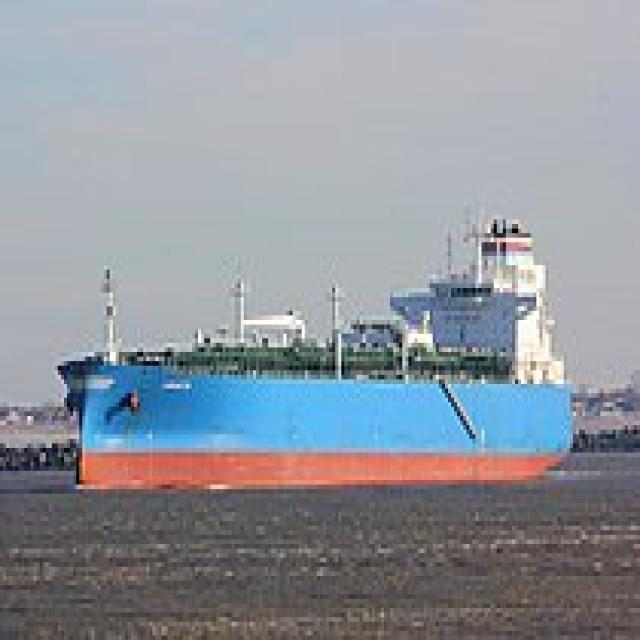Tanker: (52, 197, 570, 480)
